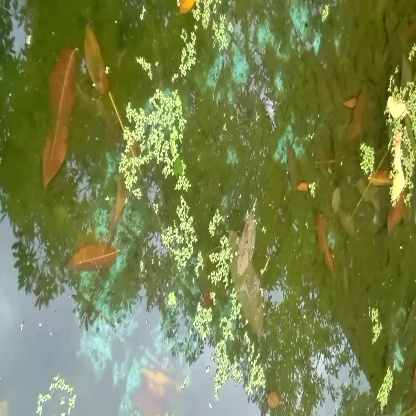leaf: (34, 46, 81, 186)
